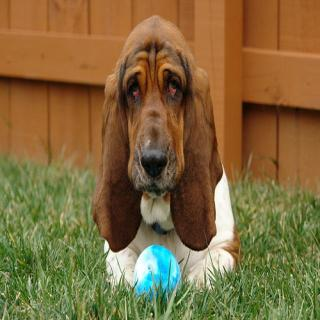dog: (96, 19, 218, 254)
nose: (138, 143, 170, 180)
